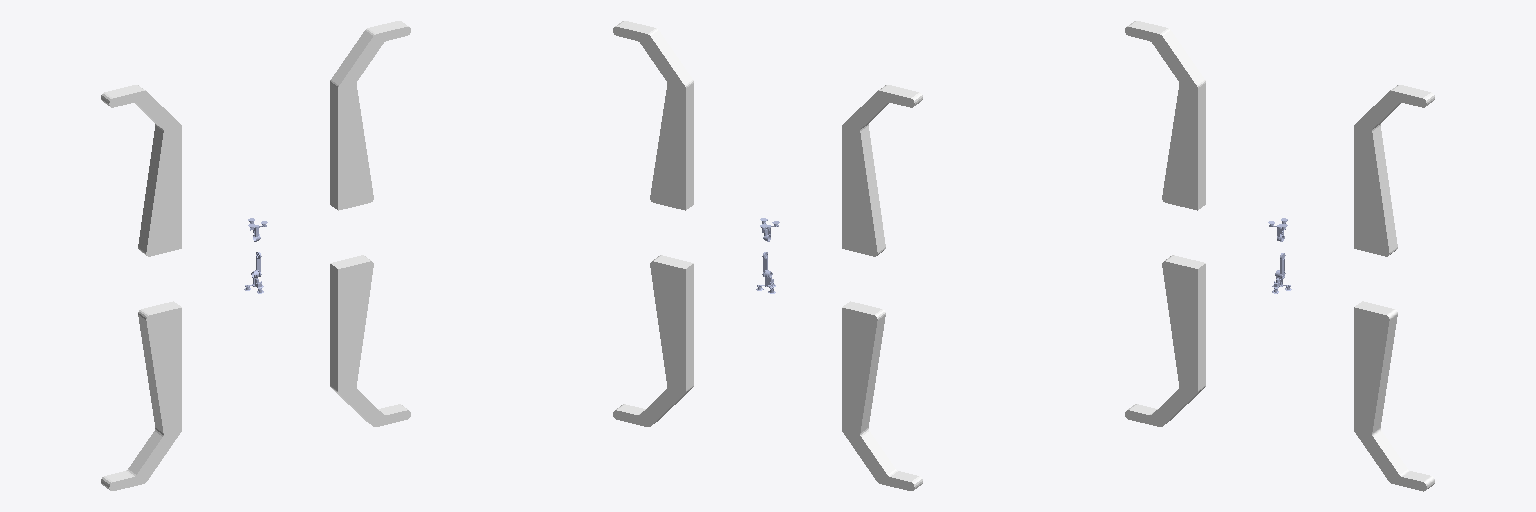
robot.urdf — bigmama0413:
<?xml version="1.0" encoding="utf-8"?>
<!-- This URDF was automatically created by SolidWorks to URDF Exporter! Originally created by [author] ([email redacted]) 
     Commit Version: 1.6.0-1-g15f4949  Build Version: 1.6.7594.29634
     For more information, please see http://wiki.ros.org/sw_urdf_exporter -->
<robot
  name="bigmama0413">
  <link
    name="Link_0">
    <inertial>
      <origin
        xyz="-0.0033101 -0.0081241 0.024625"
        rpy="0 0 0" />
      <mass
        value="0.8821" />
      <inertia
        ixx="0.0015271"
        ixy="-1.2947E-05"
        ixz="1.4235E-05"
        iyy="0.0014737"
        iyz="-7.3423E-06"
        izz="0.0010673" />
    </inertial>
    <visual>
      <origin
        xyz="0 0 0"
        rpy="0 0 0" />
      <geometry>
        <mesh
          filename="package://bigmama0413/meshes/Link_0.STL" />
      </geometry>
      <material
        name="">
        <color
          rgba="0.79216 0.81961 0.93333 1" />
      </material>
    </visual>
    <collision>
      <origin
        xyz="0 0 0"
        rpy="0 0 0" />
      <geometry>
        <mesh
          filename="package://bigmama0413/meshes/Link_0.STL" />
      </geometry>
    </collision>
  </link>
  <link
    name="Link_1">
    <inertial>
      <origin
        xyz="-3.3307E-16 0.12 0.014813"
        rpy="0 0 0" />
      <mass
        value="0.28238" />
      <inertia
        ixx="0.0027445"
        ixy="2.0345E-19"
        ixz="-5.4686E-21"
        iyy="0.00019508"
        iyz="7.4683E-21"
        izz="0.0029159" />
    </inertial>
    <visual>
      <origin
        xyz="0 0 0"
        rpy="0 0 0" />
      <geometry>
        <mesh
          filename="package://bigmama0413/meshes/Link_1.STL" />
      </geometry>
      <material
        name="">
        <color
          rgba="0.79216 0.81961 0.93333 1" />
      </material>
    </visual>
    <collision>
      <origin
        xyz="0 0 0"
        rpy="0 0 0" />
      <geometry>
        <mesh
          filename="package://bigmama0413/meshes/Link_1.STL" />
      </geometry>
    </collision>
  </link>
  <joint
    name="Joint_1"
    type="revolute">
    <origin
      xyz="0.022 0 0.155"
      rpy="1.5708 0 1.5708" />
    <parent
      link="Link_0" />
    <child
      link="Link_1" />
    <axis
      xyz="0 0 -1" />
    <limit
      lower="-3.14"
      upper="3.14"
      effort="5000"
      velocity="0.05" />
  </joint>
  <link
    name="Link_2">
    <inertial>
      <origin
        xyz="5.5511E-15 0.098184 -0.051898"
        rpy="0 0 0" />
      <mass
        value="0.34516" />
      <inertia
        ixx="0.0036332"
        ixy="3.3474E-18"
        ixz="-4.6341E-19"
        iyy="0.00034405"
        iyz="0.00024115"
        izz="0.0037914" />
    </inertial>
    <visual>
      <origin
        xyz="0 0 0"
        rpy="0 0 0" />
      <geometry>
        <mesh
          filename="package://bigmama0413/meshes/Link_2.STL" />
      </geometry>
      <material
        name="">
        <color
          rgba="0.79216 0.81961 0.93333 1" />
      </material>
    </visual>
    <collision>
      <origin
        xyz="0 0 0"
        rpy="0 0 0" />
      <geometry>
        <mesh
          filename="package://bigmama0413/meshes/Link_2.STL" />
      </geometry>
    </collision>
  </link>
  <joint
    name="Joint_2"
    type="revolute">
    <origin
      xyz="0 0.24 0"
      rpy="0 0 0" />
    <parent
      link="Link_1" />
    <child
      link="Link_2" />
    <axis
      xyz="0 0 -1" />
    <limit
      lower="-3.14"
      upper="3.14"
      effort="5000"
      velocity="0.05" />
  </joint>
  <link
    name="Link_3">
    <inertial>
      <origin
        xyz="0.018256 0.077688 0.029219"
        rpy="0 0 0" />
      <mass
        value="0.40524" />
      <inertia
        ixx="0.0010067"
        ixy="-1.0212E-05"
        ixz="-1.2958E-05"
        iyy="0.00027741"
        iyz="1.4235E-05"
        izz="0.0011025" />
    </inertial>
    <visual>
      <origin
        xyz="0 0 0"
        rpy="0 0 0" />
      <geometry>
        <mesh
          filename="package://bigmama0413/meshes/Link_3.STL" />
      </geometry>
      <material
        name="">
        <color
          rgba="0.79216 0.81961 0.93333 1" />
      </material>
    </visual>
    <collision>
      <origin
        xyz="0 0 0"
        rpy="0 0 0" />
      <geometry>
        <mesh
          filename="package://bigmama0413/meshes/Link_3.STL" />
      </geometry>
    </collision>
  </link>
  <joint
    name="Joint_3"
    type="revolute">
    <origin
      xyz="0 0.24 -0.0442"
      rpy="0 0 0" />
    <parent
      link="Link_2" />
    <child
      link="Link_3" />
    <axis
      xyz="0 0 1" />
    <limit
      lower="-3.14"
      upper="3.14"
      effort="5000"
      velocity="0.05" />
  </joint>
  <link
    name="Link_4">
    <inertial>
      <origin
        xyz="-0.00048585 -1.3039E-05 -0.030176"
        rpy="0 0 0" />
      <mass
        value="0.47679" />
      <inertia
        ixx="0.00046669"
        ixy="1.35E-08"
        ixz="-2.8556E-06"
        iyy="0.00042423"
        iyz="7.136E-09"
        izz="0.00078982" />
    </inertial>
    <visual>
      <origin
        xyz="0 0 0"
        rpy="0 0 0" />
      <geometry>
        <mesh
          filename="package://bigmama0413/meshes/Link_4.STL" />
      </geometry>
      <material
        name="">
        <color
          rgba="0.79216 0.81961 0.93333 1" />
      </material>
    </visual>
    <collision>
      <origin
        xyz="0 0 0"
        rpy="0 0 0" />
      <geometry>
        <mesh
          filename="package://bigmama0413/meshes/Link_4.STL" />
      </geometry>
    </collision>
  </link>
  <joint
    name="Joint_4"
    type="revolute">
    <origin
      xyz="0 0.145 0.022"
      rpy="1.5708 0 0" />
    <parent
      link="Link_3" />
    <child
      link="Link_4" />
    <axis
      xyz="0 0 -1" />
    <limit
      lower="0"
      upper="1E-05"
      effort="1E-05"
      velocity="1E-05" />
  </joint>
  <link
    name="Link_innerfinger">
    <inertial>
      <origin
        xyz="-0.25709 1.0056 -8.9928E-15"
        rpy="0 0 0" />
      <mass
        value="148.38" />
      <inertia
        ixx="65.642"
        ixy="8.2867"
        ixz="2.9732E-16"
        iyy="6.0595"
        iyz="9.3172E-16"
        izz="70.712" />
    </inertial>
    <visual>
      <origin
        xyz="0 0 0"
        rpy="0 0 0" />
      <geometry>
        <mesh
          filename="package://bigmama0413/meshes/Link_innerfinger.STL" />
      </geometry>
      <material
        name="">
        <color
          rgba="1 1 1 1" />
      </material>
    </visual>
    <collision>
      <origin
        xyz="0 0 0"
        rpy="0 0 0" />
      <geometry>
        <mesh
          filename="package://bigmama0413/meshes/Link_innerfinger.STL" />
      </geometry>
    </collision>
  </link>
  <joint
    name="Joint_innerfinger"
    type="prismatic">
    <origin
      xyz="0 -1.0755 0"
      rpy="-1.5708 0 1.5708" />
    <parent
      link="Link_4" />
    <child
      link="Link_innerfinger" />
    <axis
      xyz="1 0 0" />
    <limit
      lower="-1"
      upper="1"
      effort="500"
      velocity="0.05" />
  </joint>
  <link
    name="Link_exterfinger">
    <inertial>
      <origin
        xyz="0.25709 1.0056 -7.6605E-15"
        rpy="0 0 0" />
      <mass
        value="148.38" />
      <inertia
        ixx="65.642"
        ixy="-8.2867"
        ixz="5.5027E-14"
        iyy="6.0595"
        iyz="4.2632E-13"
        izz="70.712" />
    </inertial>
    <visual>
      <origin
        xyz="0 0 0"
        rpy="0 0 0" />
      <geometry>
        <mesh
          filename="package://bigmama0413/meshes/Link_exterfinger.STL" />
      </geometry>
      <material
        name="">
        <color
          rgba="1 1 1 1" />
      </material>
    </visual>
    <collision>
      <origin
        xyz="0 0 0"
        rpy="0 0 0" />
      <geometry>
        <mesh
          filename="package://bigmama0413/meshes/Link_exterfinger.STL" />
      </geometry>
    </collision>
  </link>
  <joint
    name="Joint_exterfinger"
    type="prismatic">
    <origin
      xyz="0 1.0755 0"
      rpy="-1.5708 0 1.5708" />
    <parent
      link="Link_4" />
    <child
      link="Link_exterfinger" />
    <axis
      xyz="1 0 0" />
    <limit
      lower="-1"
      upper="1"
      effort="500"
      velocity="0.05" />
  </joint>
  <link
    name="Link_baseout">
    <inertial>
      <origin
        xyz="-0.25709 -1.0056 5.5511E-15"
        rpy="0 0 0" />
      <mass
        value="148.38" />
      <inertia
        ixx="65.642"
        ixy="-8.2867"
        ixz="3.5871E-14"
        iyy="6.0595"
        iyz="5.8852E-14"
        izz="70.712" />
    </inertial>
    <visual>
      <origin
        xyz="0 0 0"
        rpy="0 0 0" />
      <geometry>
        <mesh
          filename="package://bigmama0413/meshes/Link_baseout.STL" />
      </geometry>
      <material
        name="">
        <color
          rgba="1 1 1 1" />
      </material>
    </visual>
    <collision>
      <origin
        xyz="0 0 0"
        rpy="0 0 0" />
      <geometry>
        <mesh
          filename="package://bigmama0413/meshes/Link_baseout.STL" />
      </geometry>
    </collision>
  </link>
  <joint
    name="Joint_baseout"
    type="prismatic">
    <origin
      xyz="-1.0755 0 0.01"
      rpy="1.5708 0 0" />
    <parent
      link="Link_0" />
    <child
      link="Link_baseout" />
    <axis
      xyz="1 0 0" />
    <limit
      lower="-1"
      upper="1"
      effort="500"
      velocity="0.05" />
  </joint>
  <link
    name="Link_basein">
    <inertial>
      <origin
        xyz="0.25709 -1.0056 4.4409E-15"
        rpy="0 0 0" />
      <mass
        value="148.38" />
      <inertia
        ixx="65.642"
        ixy="8.2867"
        ixz="2.1662E-16"
        iyy="6.0595"
        iyz="-3.0061E-16"
        izz="70.712" />
    </inertial>
    <visual>
      <origin
        xyz="0 0 0"
        rpy="0 0 0" />
      <geometry>
        <mesh
          filename="package://bigmama0413/meshes/Link_basein.STL" />
      </geometry>
      <material
        name="">
        <color
          rgba="1 1 1 1" />
      </material>
    </visual>
    <collision>
      <origin
        xyz="0 0 0"
        rpy="0 0 0" />
      <geometry>
        <mesh
          filename="package://bigmama0413/meshes/Link_basein.STL" />
      </geometry>
    </collision>
  </link>
  <joint
    name="Joint_basein"
    type="prismatic">
    <origin
      xyz="1.0755 0 0.01"
      rpy="1.5708 0 0" />
    <parent
      link="Link_0" />
    <child
      link="Link_basein" />
    <axis
      xyz="1 0 0" />
    <limit
      lower="-1"
      upper="1"
      effort="500"
      velocity="0.05" />
  </joint>
</robot>

--- Render facts (derived) ---
Views: 3 orthographic renders of the robot side by side, from view 1: azimuth 30°, elevation 25°; view 2: azimuth 150°, elevation 25°; view 3: azimuth 330°, elevation 25°.
Model bigmama0413 with 9 links and 8 joints (4 revolute, 4 prismatic), rooted at Link_0, posed all joints at 0.
Visible links, largest first — view 1: Link_exterfinger, Link_baseout, Link_basein, Link_innerfinger; view 2: Link_exterfinger, Link_baseout, Link_basein, Link_innerfinger; view 3: Link_basein, Link_innerfinger, Link_exterfinger, Link_baseout.
Link boxes in pixels (x1=…): Link_exterfinger: x1=330, y1=21, x2=410, y2=210; Link_baseout: x1=101, y1=301, x2=181, y2=490; Link_basein: x1=330, y1=255, x2=410, y2=426; Link_innerfinger: x1=101, y1=85, x2=181, y2=256; Link_exterfinger: x1=613, y1=21, x2=693, y2=210; Link_baseout: x1=842, y1=301, x2=922, y2=490; Link_basein: x1=613, y1=255, x2=693, y2=426; Link_innerfinger: x1=842, y1=85, x2=922, y2=256; Link_basein: x1=1354, y1=301, x2=1434, y2=491; Link_innerfinger: x1=1125, y1=21, x2=1205, y2=210; Link_exterfinger: x1=1354, y1=85, x2=1434, y2=256; Link_baseout: x1=1125, y1=255, x2=1205, y2=426.
Size in the robot's own frame: 4.15 by 0.289 by 5.17 metres.
Meshes: 9 distinct files referenced, 8 mesh visuals loaded (8 binary STL); not drawn: 1 (reference not matched to a file when rendering).
